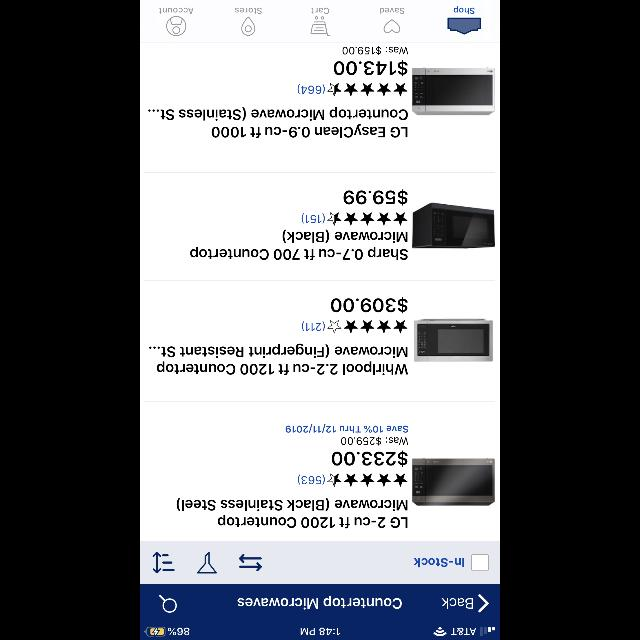checkbox: (472, 554, 488, 570)
icon: (327, 321, 407, 334), (327, 212, 407, 225), (327, 474, 407, 486), (327, 84, 407, 96), (152, 552, 174, 574), (310, 16, 330, 36), (166, 16, 186, 36), (238, 554, 262, 570), (159, 594, 177, 612), (241, 16, 255, 36), (384, 19, 401, 33), (478, 594, 488, 612)
image: (412, 458, 494, 506), (412, 203, 494, 249), (412, 68, 494, 114), (414, 319, 492, 361), (448, 18, 480, 34), (197, 551, 217, 573)
text: (148, 106, 408, 138), (150, 344, 408, 374), (176, 498, 408, 528), (190, 230, 408, 260), (238, 595, 402, 609), (331, 450, 407, 466), (331, 297, 407, 313), (334, 60, 408, 76), (286, 423, 408, 432), (343, 189, 407, 205), (340, 437, 408, 445), (342, 47, 408, 55), (414, 558, 464, 566), (442, 598, 472, 608), (298, 474, 324, 484), (298, 84, 324, 94), (302, 321, 324, 331), (302, 213, 324, 223), (158, 8, 194, 14), (234, 8, 262, 14), (454, 6, 474, 14), (380, 8, 404, 14), (312, 8, 328, 15)
uppertaskbar: (140, 626, 500, 640)
